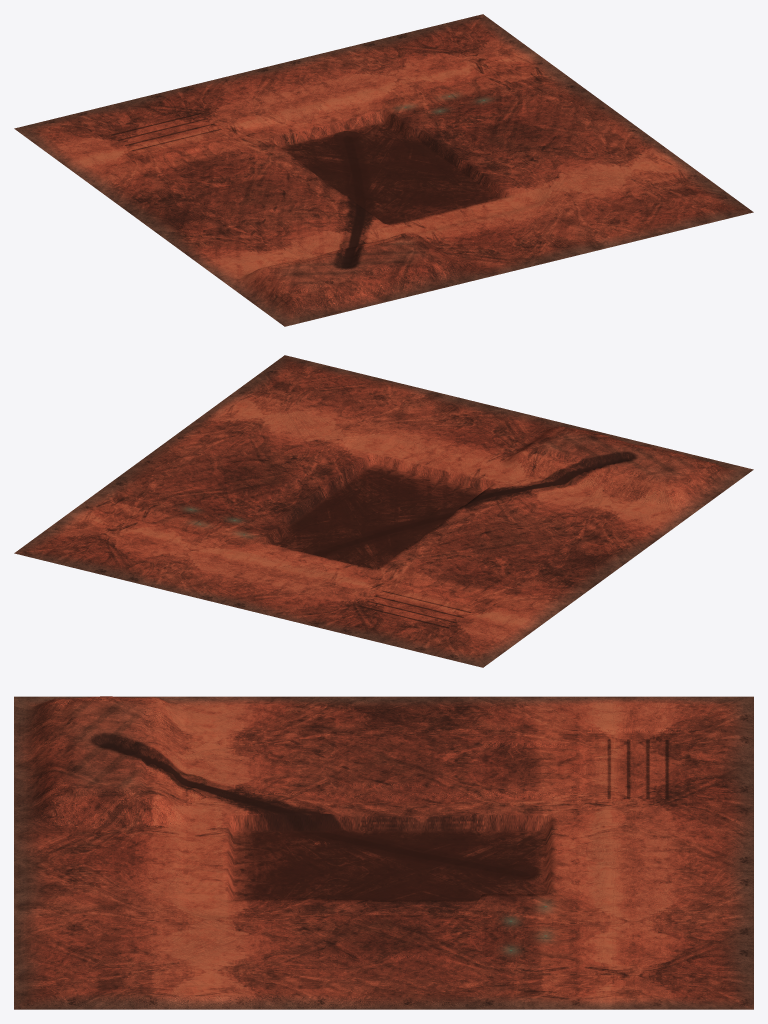
File: dome-basin-terrain.glb
3 renders of one model, top to bottom at view 1: azimuth 30°, elevation 25°; view 2: azimuth 150°, elevation 25°; view 3: azimuth 270°, elevation 25°, orthographic. The views are drawn at different scales.
Parts seen in each view (by area): view 1: DomeBasinTerrain; view 2: DomeBasinTerrain; view 3: DomeBasinTerrain.
Part boxes in pixels (bbox=[...]): DomeBasinTerrain: bbox=[14, 14, 753, 326]; DomeBasinTerrain: bbox=[14, 355, 753, 667]; DomeBasinTerrain: bbox=[14, 696, 753, 1009].
Bounding box in the file's own units: 128 × 6 × 128.
Materials: 1 (1 with a texture image).
